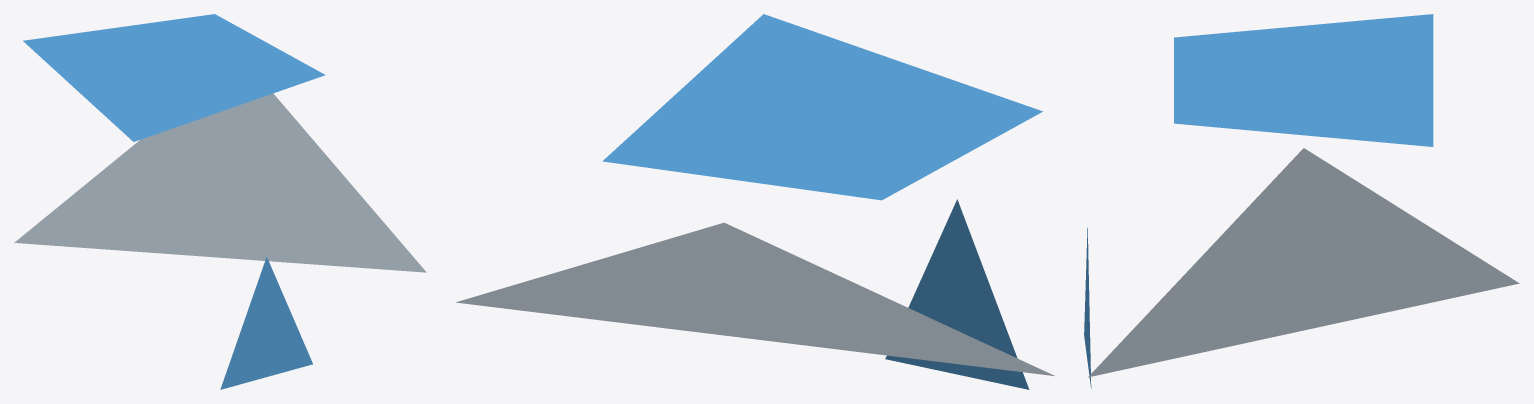
Rendered from AL_AATurret_LOD2.glb.
The picture shows the model from 3 angles, left to right: view 1: azimuth 30°, elevation 25°; view 2: azimuth 150°, elevation 25°; view 3: azimuth 270°, elevation 25°; orthographic projection. The views are drawn at different scales.
Parts seen in each view (by area): view 1: EntranceGate; view 2: EntranceGate; view 3: EntranceGate.
Boxes of the visible parts, x1,y1,x2,y2 form: EntranceGate: [14, 14, 426, 389]; EntranceGate: [455, 14, 1055, 389]; EntranceGate: [1084, 14, 1519, 388].
Bounding box in the file's own units: 400 × 300 × 403.
